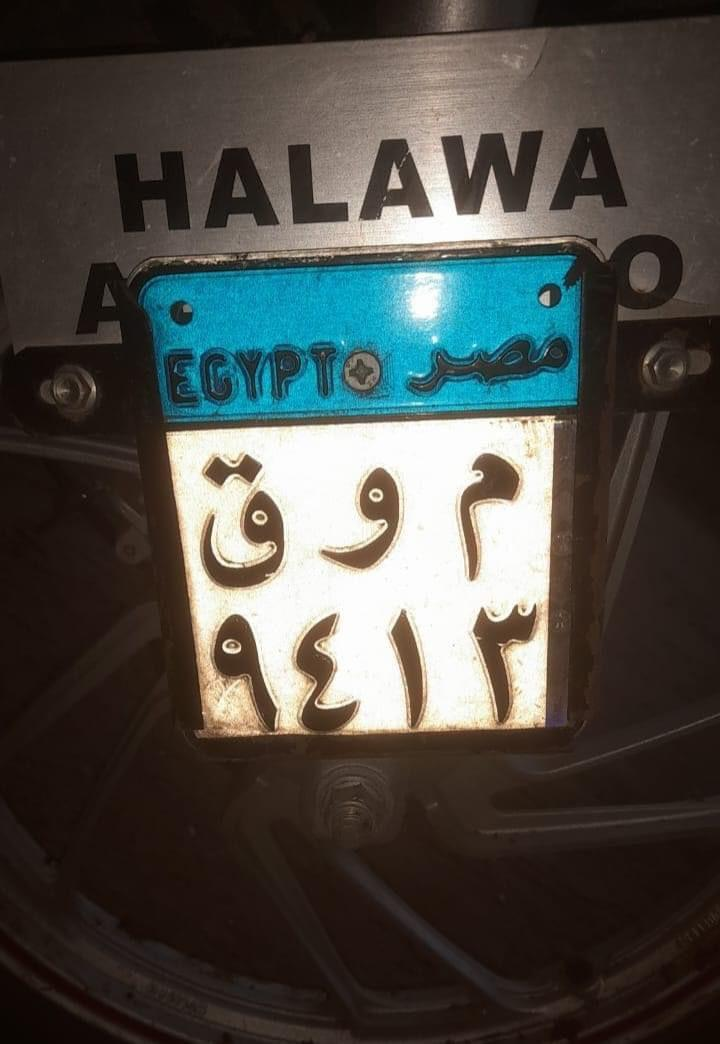License Plate: (143, 258, 573, 753)
